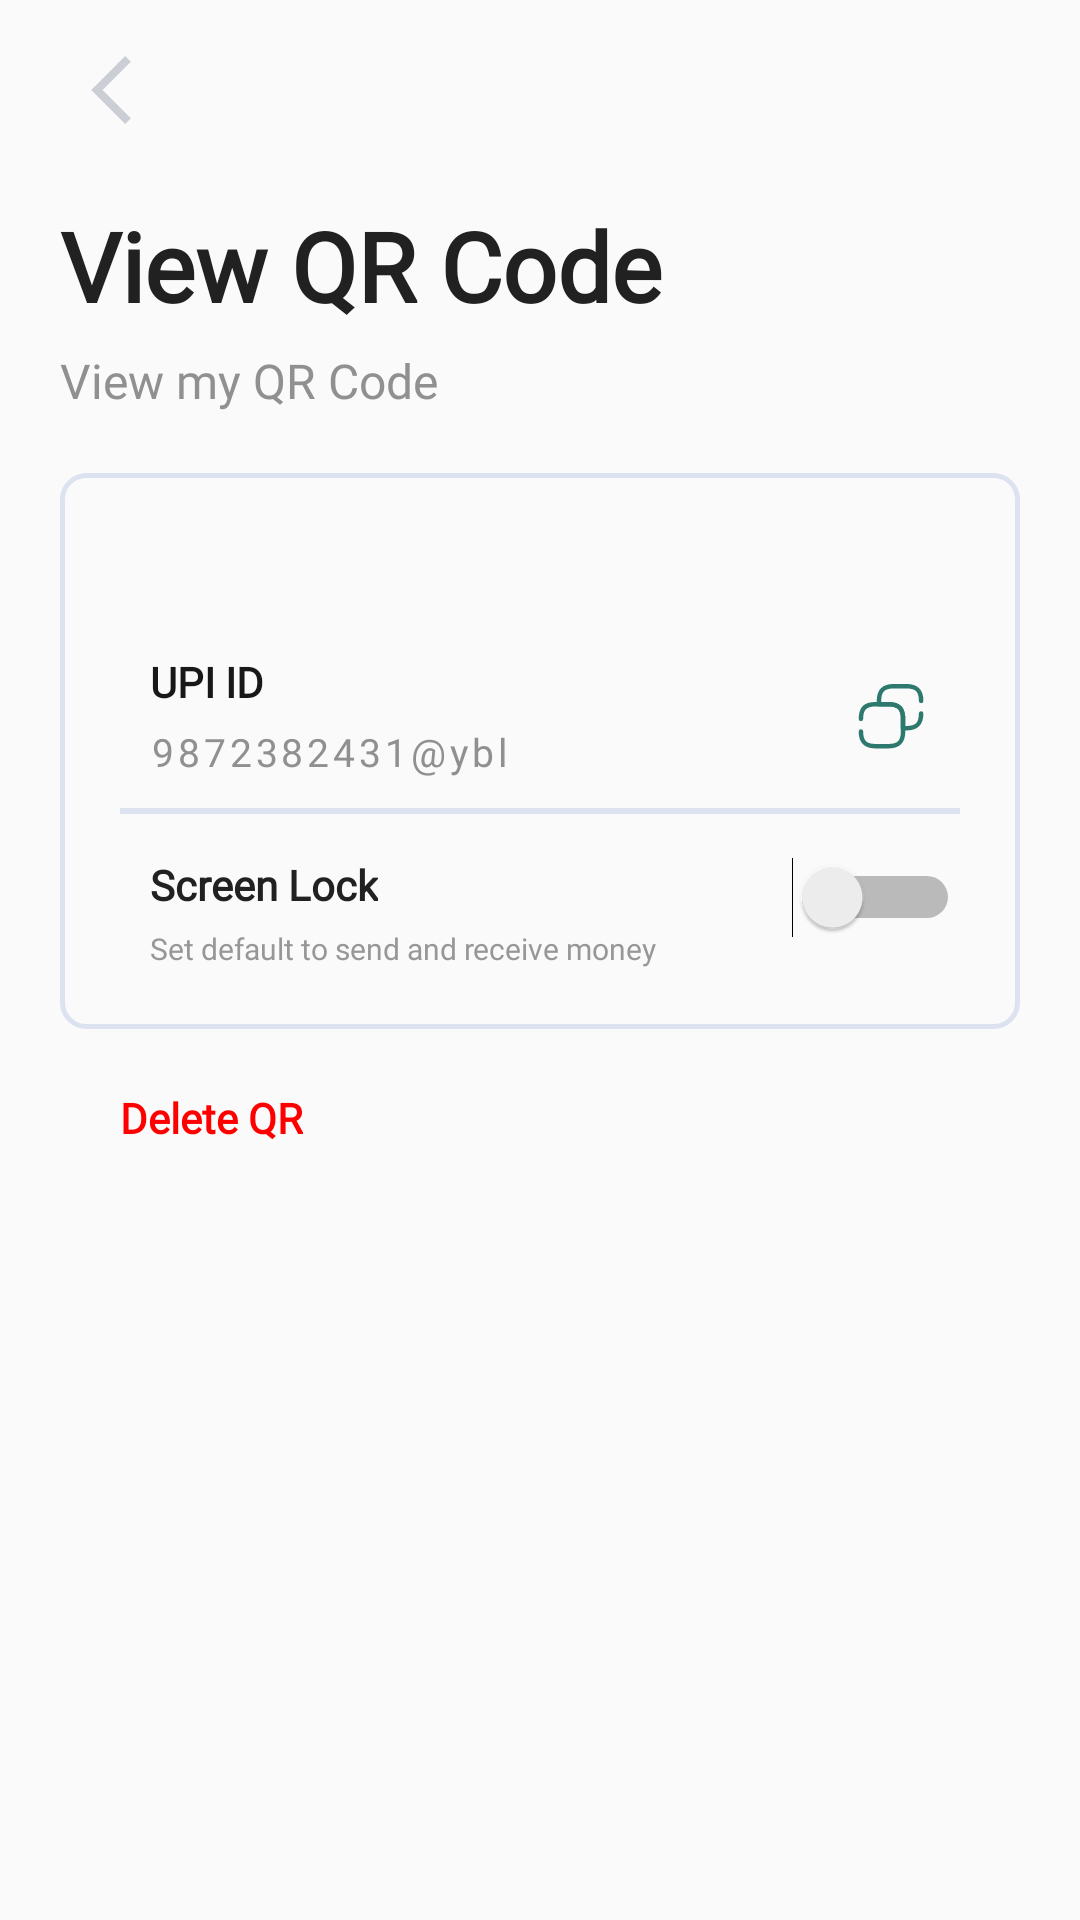

Icons on this 1080px×1920px Android screen, each with the point to tap as point (x, y):
back: point (111, 90)
